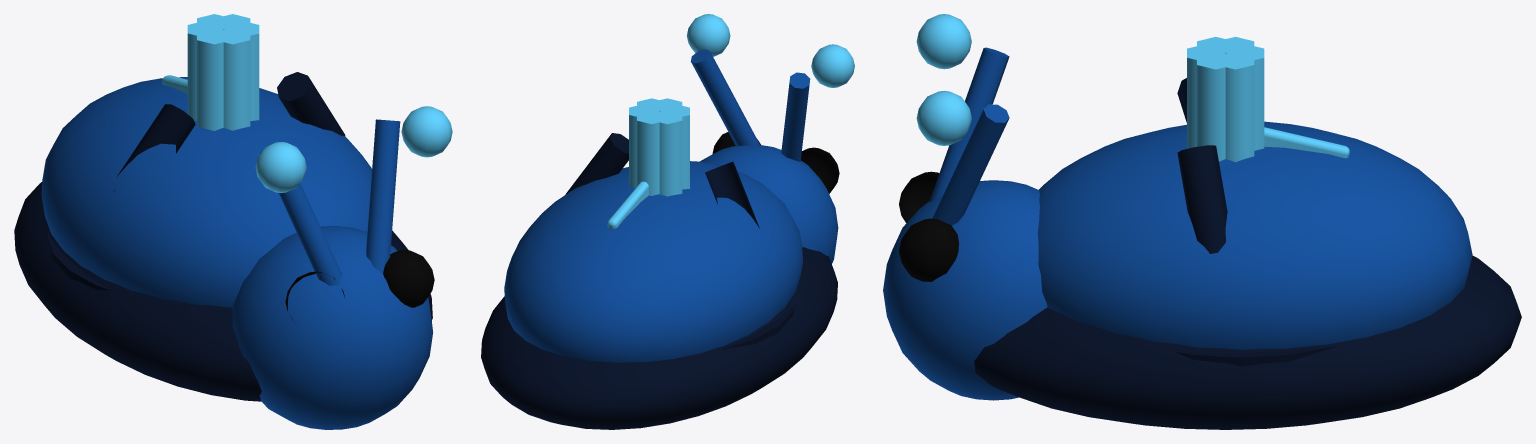
Rendered from leviatan.obj.
The picture shows the model from 3 angles, left to right: view 1: azimuth 30°, elevation 25°; view 2: azimuth 150°, elevation 25°; view 3: azimuth 270°, elevation 25°; orthographic projection. The views are drawn at different scales.
Size of the model in its own units: 0.496 by 0.4712 by 0.8023.
